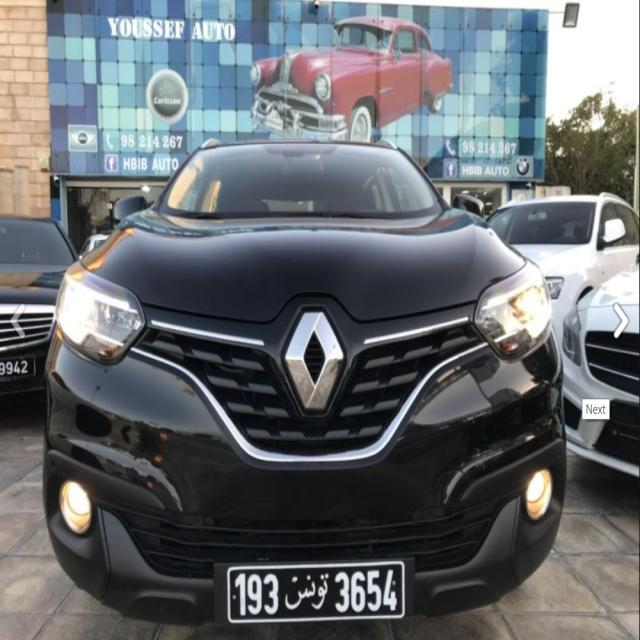LP: (223, 559, 408, 624)
